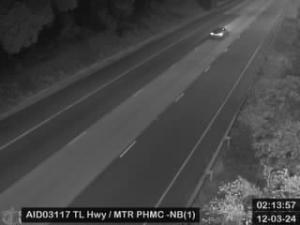vehicle: (210, 28, 226, 38)
